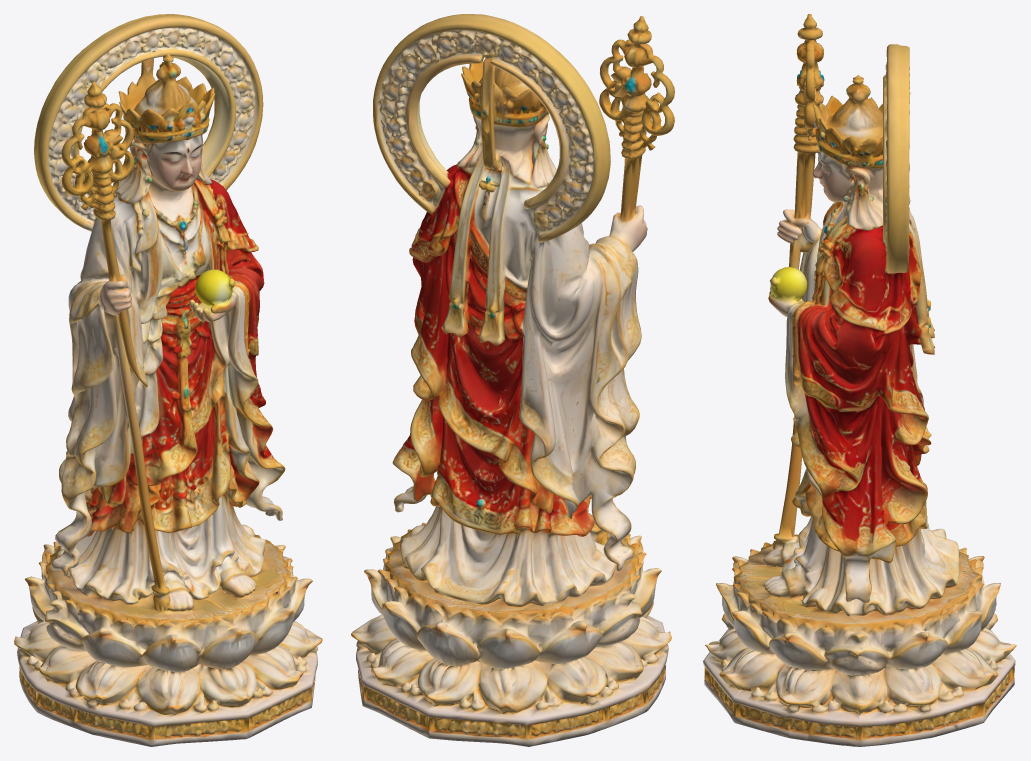
3 views of the same model, side by side, from view 1: azimuth 30°, elevation 25°; view 2: azimuth 150°, elevation 25°; view 3: azimuth 270°, elevation 25° (orthographic). The views are drawn at different scales.
Parts seen in each view (by area): view 1: owner-collection20-13; view 2: owner-collection20-13; view 3: owner-collection20-13.
Part boxes in pixels (bbox=[...]): owner-collection20-13: bbox=[14, 14, 322, 746]; owner-collection20-13: bbox=[351, 14, 674, 746]; owner-collection20-13: bbox=[703, 14, 1016, 746].
Bounding box in the file's own units: 0.4249 × 1 × 0.4516.
1 material, 1 textured.
